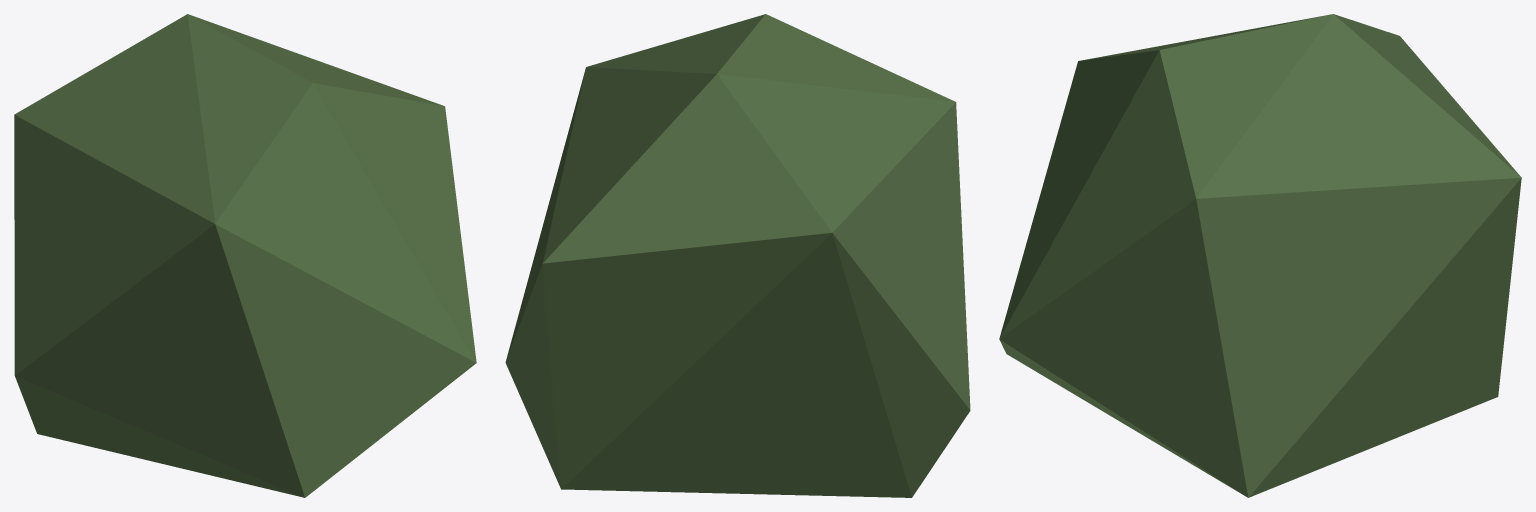
The model's file is BushBerries_2.lod4.glb.
3 views of the same model, side by side, from view 1: azimuth 30°, elevation 25°; view 2: azimuth 150°, elevation 25°; view 3: azimuth 270°, elevation 25° (orthographic). The views are drawn at different scales.
Visible parts, largest first — view 1: BushBerries_2; view 2: BushBerries_2; view 3: BushBerries_2.
Part boxes in pixels (x1,y1,x2,y2): BushBerries_2: (14, 14, 476, 497); BushBerries_2: (505, 14, 970, 497); BushBerries_2: (999, 14, 1521, 497).
Size of the model in its own units: 1.38 by 1.09 by 1.39.
